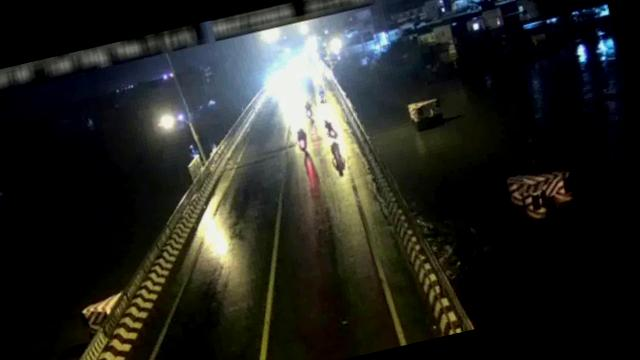Bike: (322, 114, 343, 142), (292, 125, 311, 153), (314, 81, 328, 104), (302, 100, 314, 120)
